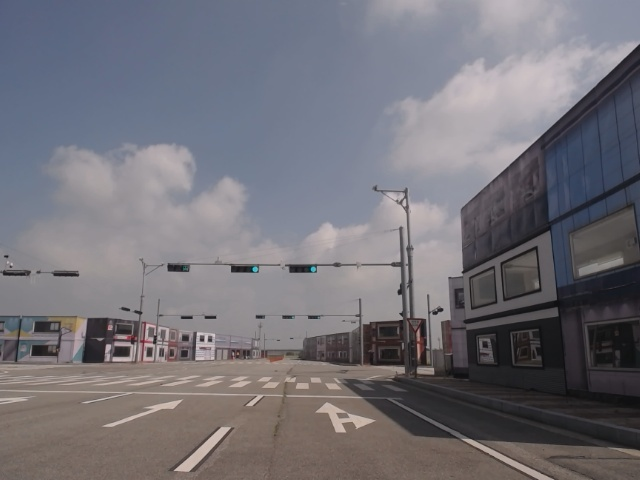straight_green_4: (230, 265, 260, 273), (290, 266, 317, 272)
